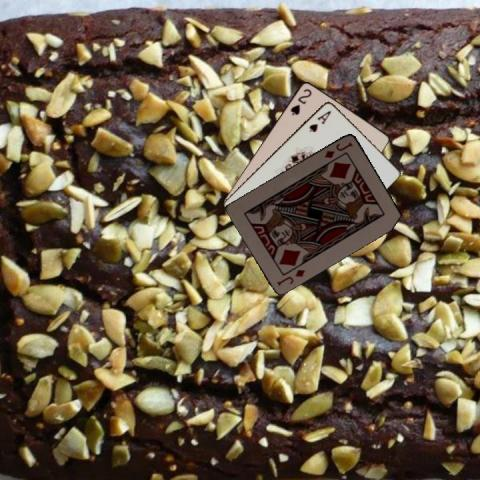2s: (288, 85, 314, 117)
As: (306, 107, 333, 134)
Jd: (274, 266, 307, 287), (321, 139, 354, 159)
